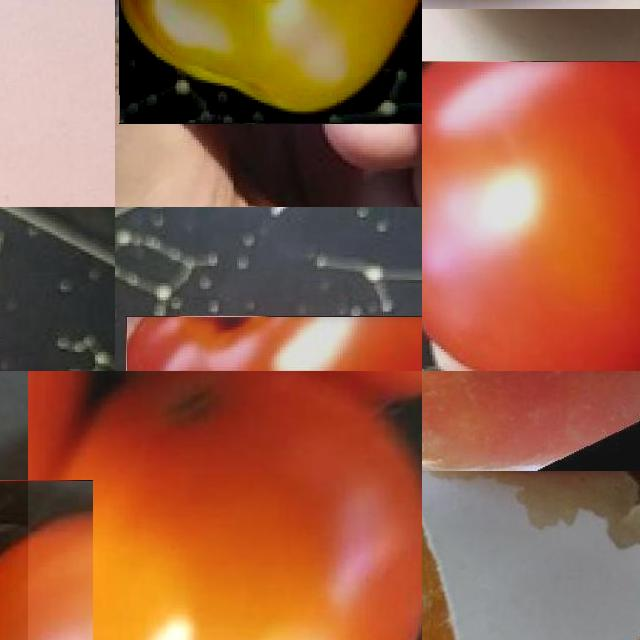0: (28, 371, 422, 640)
1: (119, 0, 422, 123), (422, 371, 640, 471)
Fresh Tomato: (422, 61, 640, 371)
